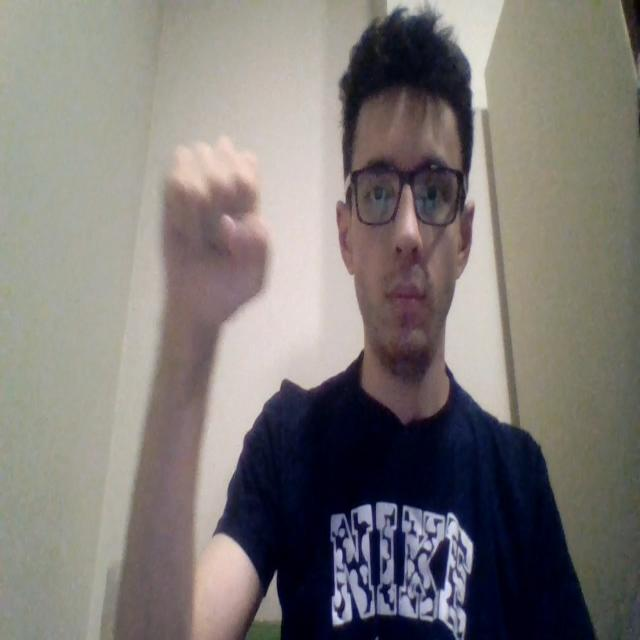yes: (160, 133, 271, 362)
